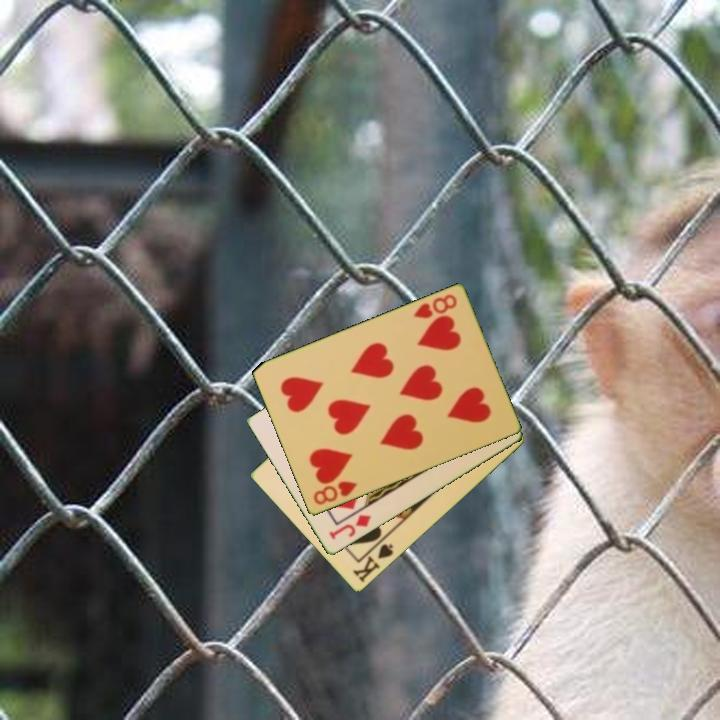8h: (410, 291, 460, 322), (309, 478, 360, 508)
Jd: (325, 511, 374, 543)
Ks: (349, 540, 396, 586)
